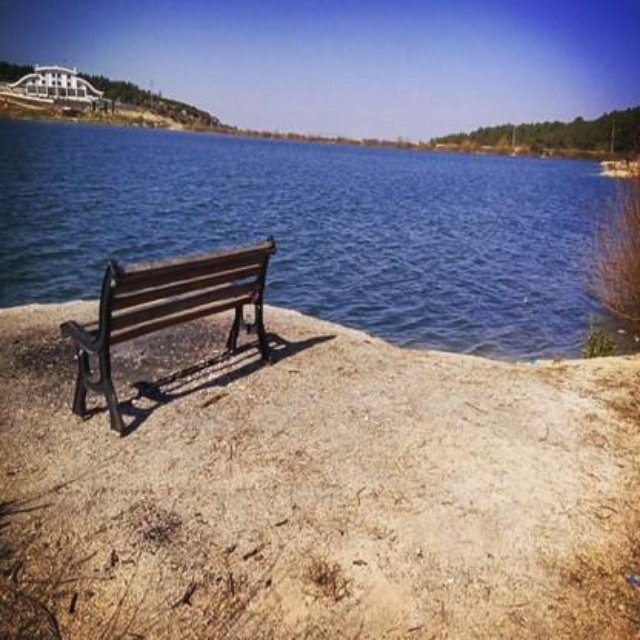obstacle: (46, 245, 317, 435)
